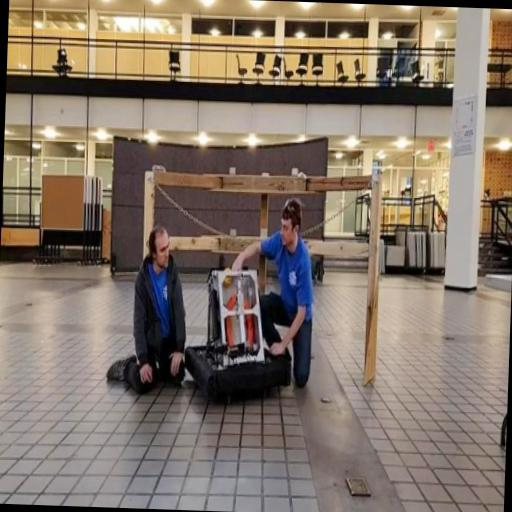robot: (178, 258, 298, 406)
